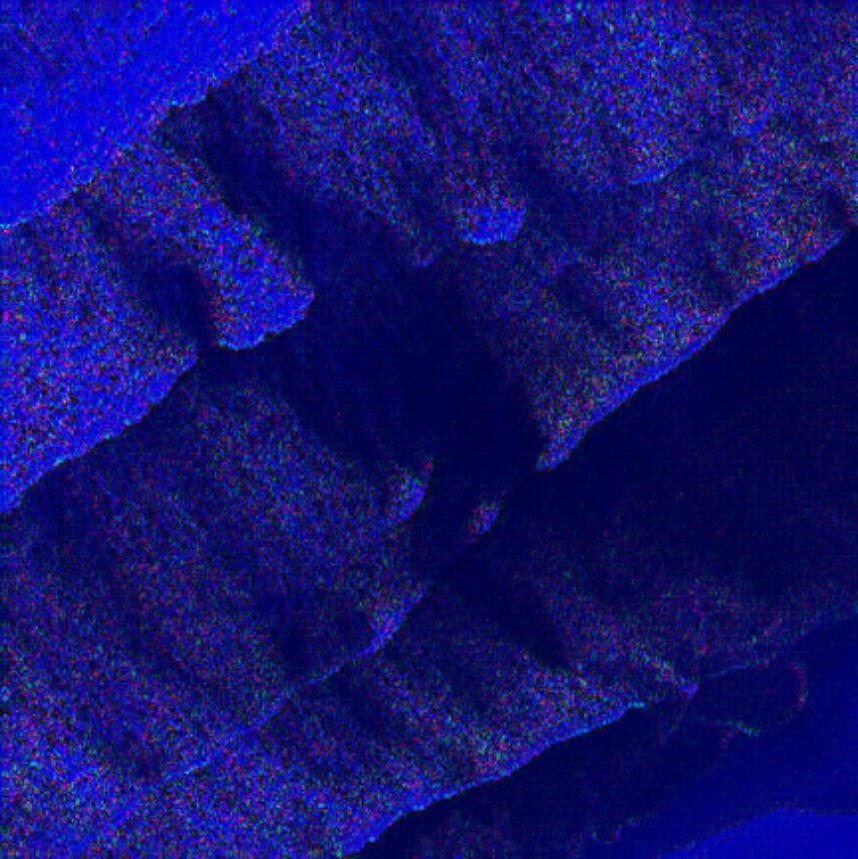rip_current: (134, 138, 612, 631)
